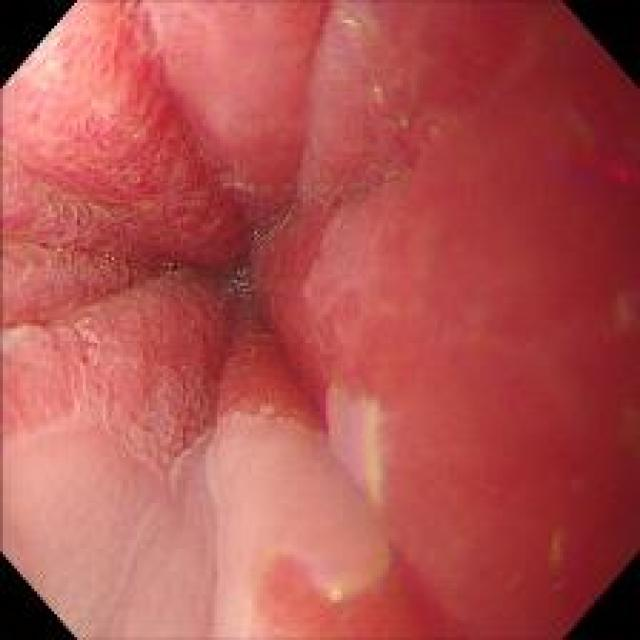blur: (319, 91, 509, 634), (204, 472, 400, 638)
color misalignment: (369, 74, 451, 141), (554, 132, 638, 196), (320, 8, 370, 54), (542, 518, 572, 588), (216, 166, 262, 202), (608, 285, 636, 340), (235, 271, 250, 305)
